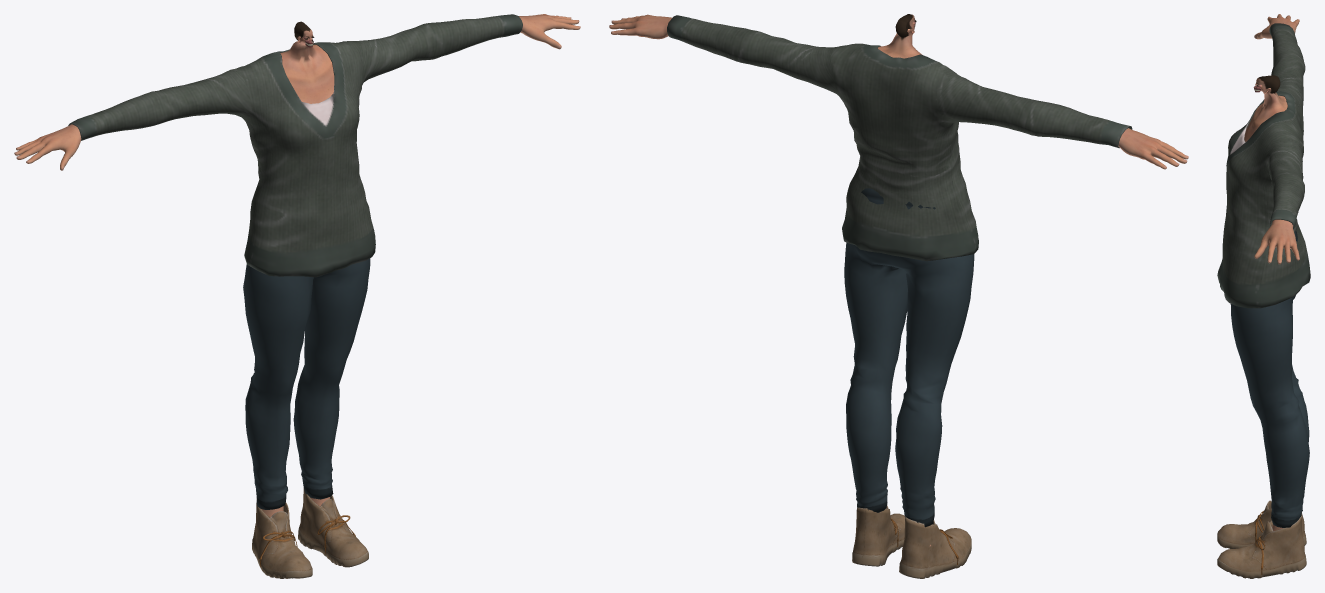
Rendered from Self_Female_New.obj.
The picture shows the model from 3 angles, left to right: view 1: azimuth 30°, elevation 25°; view 2: azimuth 150°, elevation 25°; view 3: azimuth 270°, elevation 25°; orthographic projection. The views are drawn at different scales.
Visible parts, largest first — view 1: Tops, Bottoms, Shoes, Body; view 2: Tops, Bottoms, Shoes, Body; view 3: Tops, Bottoms, Shoes, Body.
Boxes of the visible parts, box(x1,y1,x2,y2) form: Tops: box(68, 14, 522, 277); Bottoms: box(243, 258, 370, 509); Shoes: box(252, 488, 368, 578); Body: box(14, 14, 580, 525); Tops: box(667, 15, 1132, 261); Bottoms: box(844, 188, 974, 527); Shoes: box(852, 505, 971, 578); Body: box(609, 14, 1188, 546); Tops: box(1217, 23, 1310, 308); Bottoms: box(1230, 231, 1309, 527); Shoes: box(1217, 500, 1306, 578); Body: box(1244, 14, 1299, 531).
Bounding box in the file's own units: 177 × 160 × 28.19.
1 material, 1 textured.
